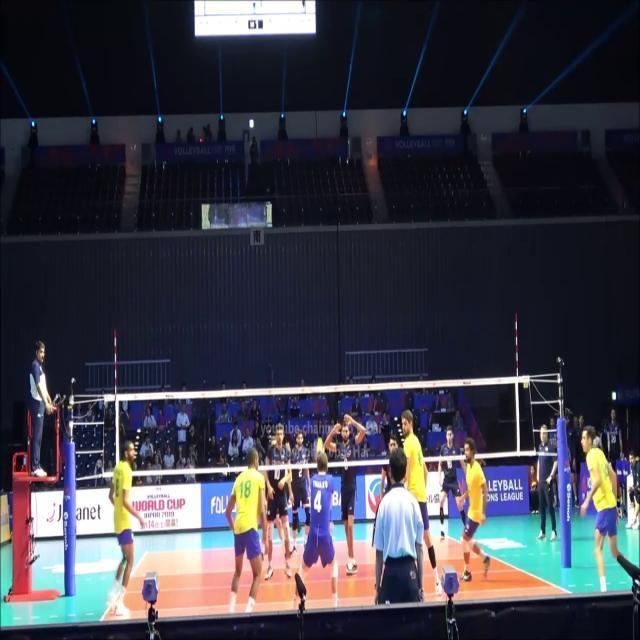volleyball: (310, 438, 326, 462)
